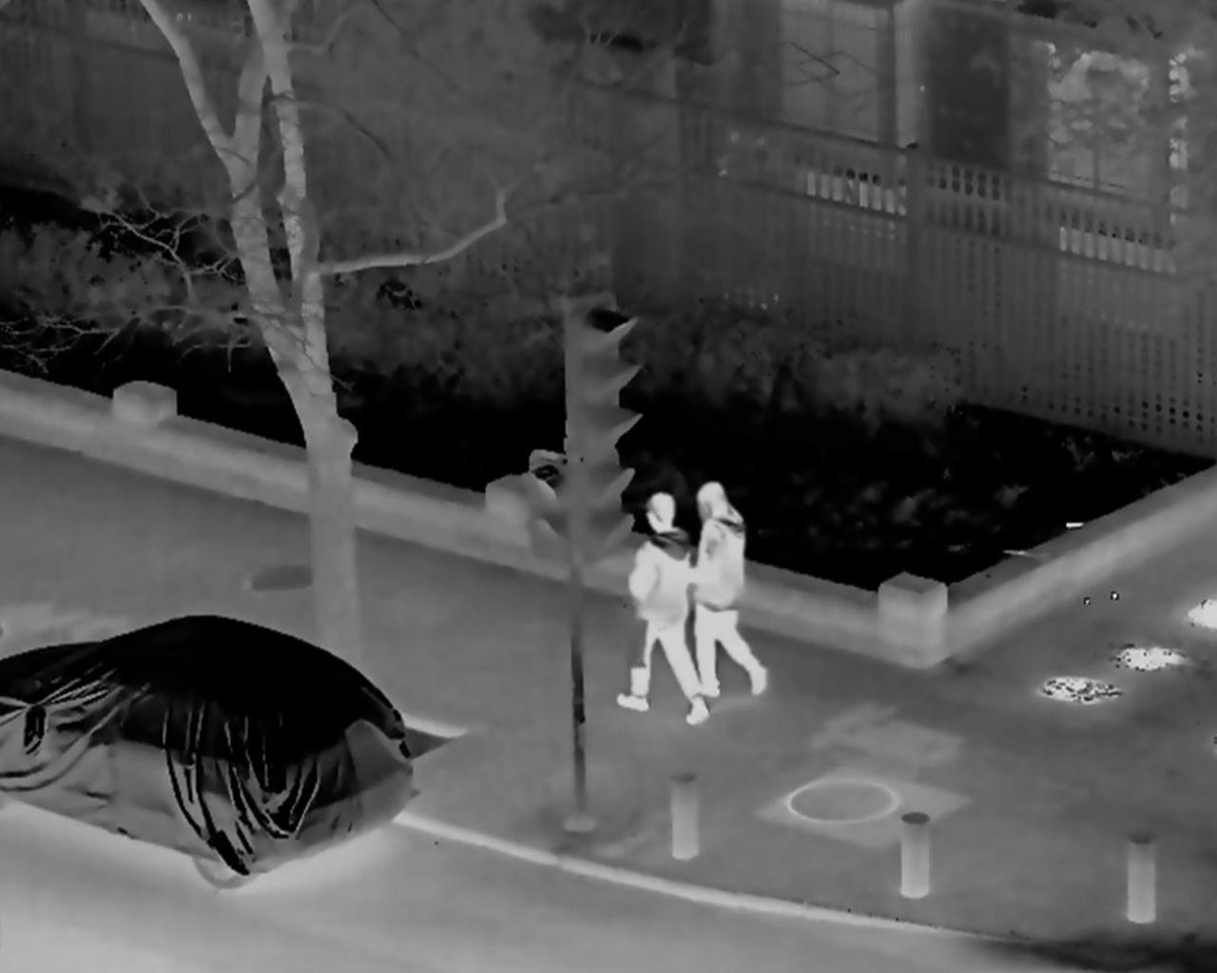person: (617, 493, 710, 721), (686, 479, 775, 699)
